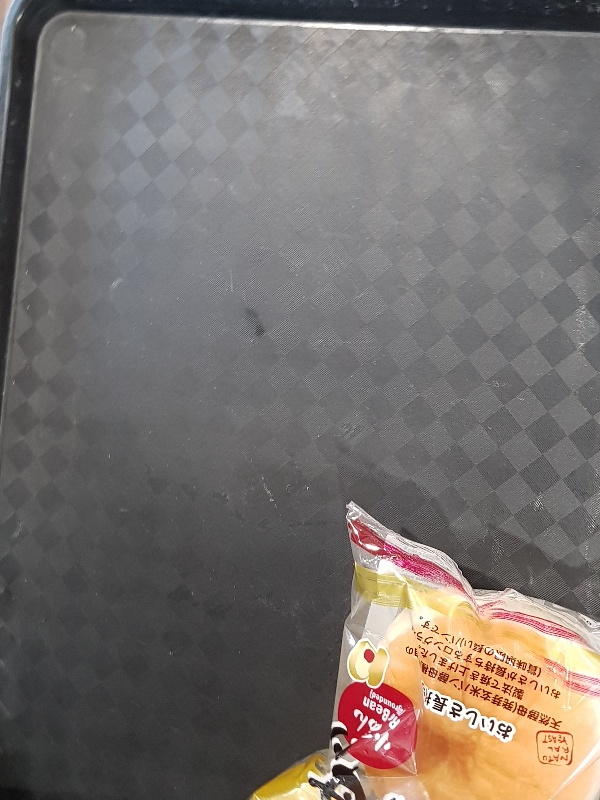Dayplus Red Bean: (247, 502, 599, 800)
